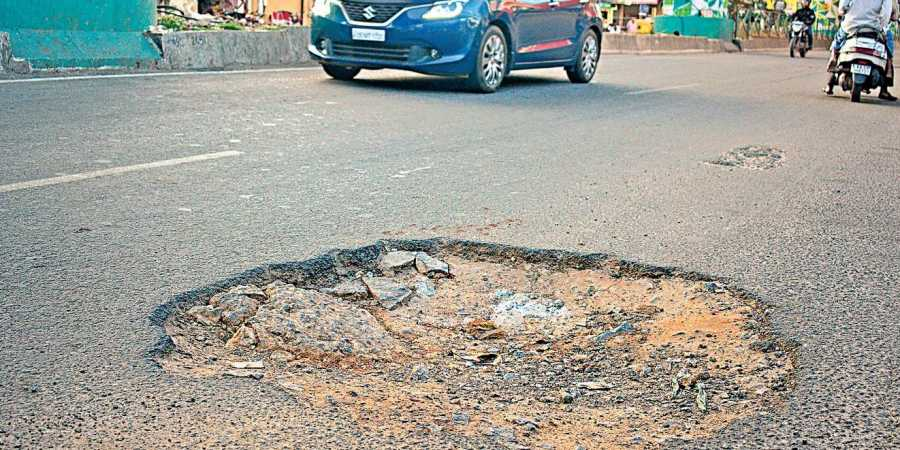pothole: (113, 216, 792, 446)
